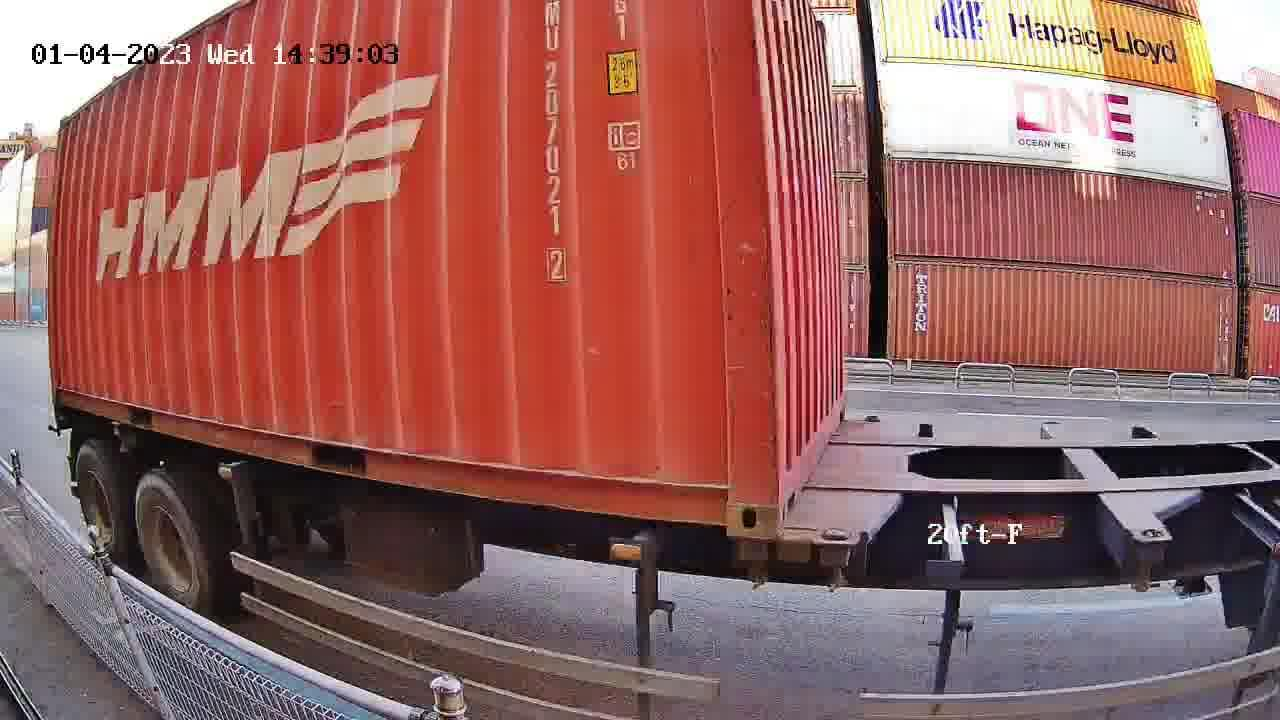Chassis: (812, 417, 907, 543)
Cone: (814, 525, 862, 590), (727, 537, 778, 589)
Hole_R: (675, 445, 780, 538)
Tire: (134, 476, 215, 617), (76, 447, 126, 562)
